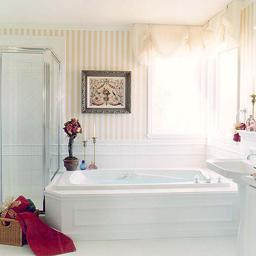Ducha: (1, 53, 60, 225)
Ventana: (147, 42, 206, 138), (205, 41, 236, 138)
